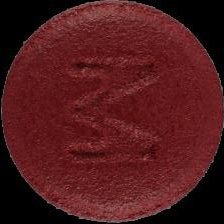55154-5660: (0, 0, 224, 224)
